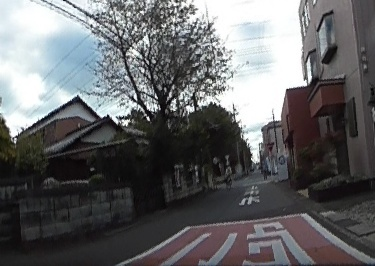person: (223, 161, 233, 189)
